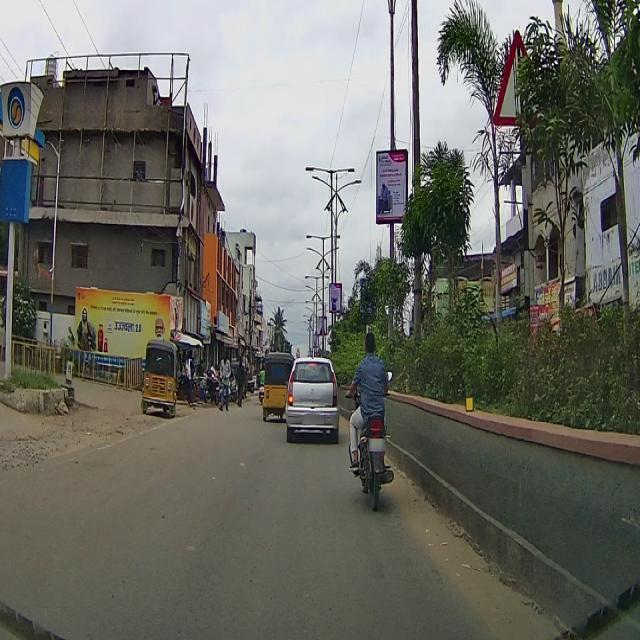gap-in-median: (496, 26, 538, 119)
